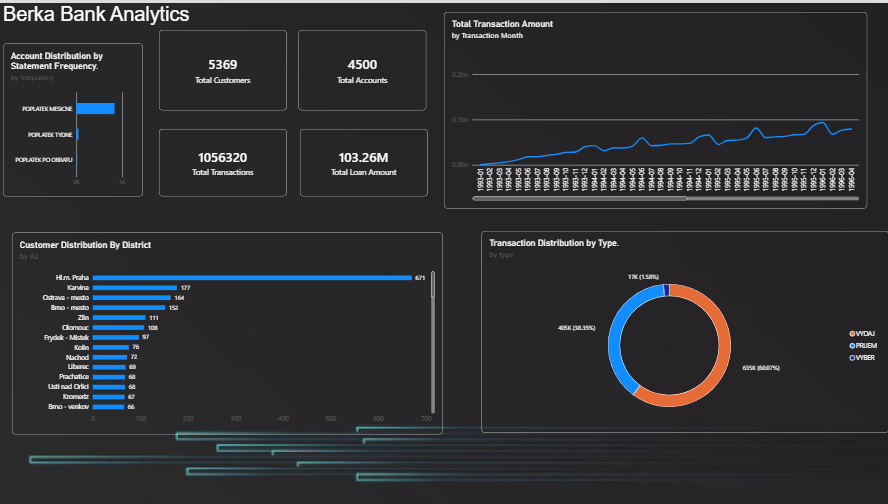

What the dashboard file says about the page in this screenshot:
{"tool":"powerbi","page":{"name":"Banking Performance & Customer Insights","canvas":[1920,1080],"ordinal":0},"visuals":[{"type":"textbox","box":[11.3,0,1403.2,87.9],"z":0},{"type":"card","fields":{"Values":["account.Total Customers"]},"box":[348.7,59.5,275,172.9],"z":1000},{"type":"card","fields":{"Values":["account.Total Accounts"]},"box":[649.1,59.5,275,172.9],"z":2000},{"type":"card","fields":{"Values":["account.Total Transactions"]},"box":[348.7,272.1,275,144.6],"z":3000},{"type":"card","fields":{"Values":["account.Total Loan Amount"]},"box":[652,272.1,275,144.6],"z":4000},{"type":"lineChart","fields":{"Category":["trans.Transaction Month"],"Y":["account.Total Transaction Amount"]},"box":[961,19.8,909.9,422.4],"z":5000},{"type":"donutChart","fields":{"Category":["trans.type"],"Y":["account.Total Transactions"]},"box":[1043.2,490.4,875.9,433.7],"z":6000},{"type":"barChart","fields":{"Category":["district.A2"],"Y":["account.Total Customers"]},"box":[31.2,493.2,926.9,433.7],"z":7000},{"type":"clusteredBarChart","fields":{"Category":["account.frequency"],"Y":["account.Total Accounts"]},"box":[11.3,87.9,300.5,328.8],"z":8000}]}

Visuals, with their boxes in screenshot pixels (x1, y1, x2, y2), scaled from the page's 1920x1080 canvas onto the 888x504 screenshot:
textbox: 5, 0, 654, 41
card - account.Total Customers: 161, 28, 288, 108
card - account.Total Accounts: 300, 28, 427, 108
card - account.Total Transactions: 161, 127, 288, 194
card - account.Total Loan Amount: 302, 127, 429, 194
lineChart - trans.Transaction Month x account.Total Transaction Amount: 444, 9, 865, 206
donutChart - trans.type x account.Total Transactions: 482, 229, 887, 431
barChart - district.A2 x account.Total Customers: 14, 230, 443, 433
clusteredBarChart - account.frequency x account.Total Accounts: 5, 41, 144, 194
